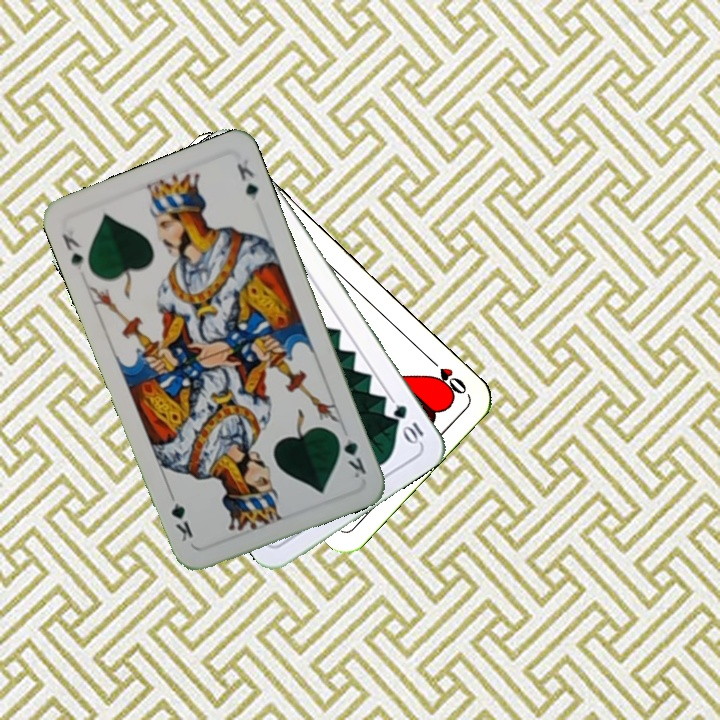G10: (389, 400, 427, 447)
GK: (331, 428, 369, 481), (58, 229, 86, 273)
HO: (423, 352, 469, 397)
